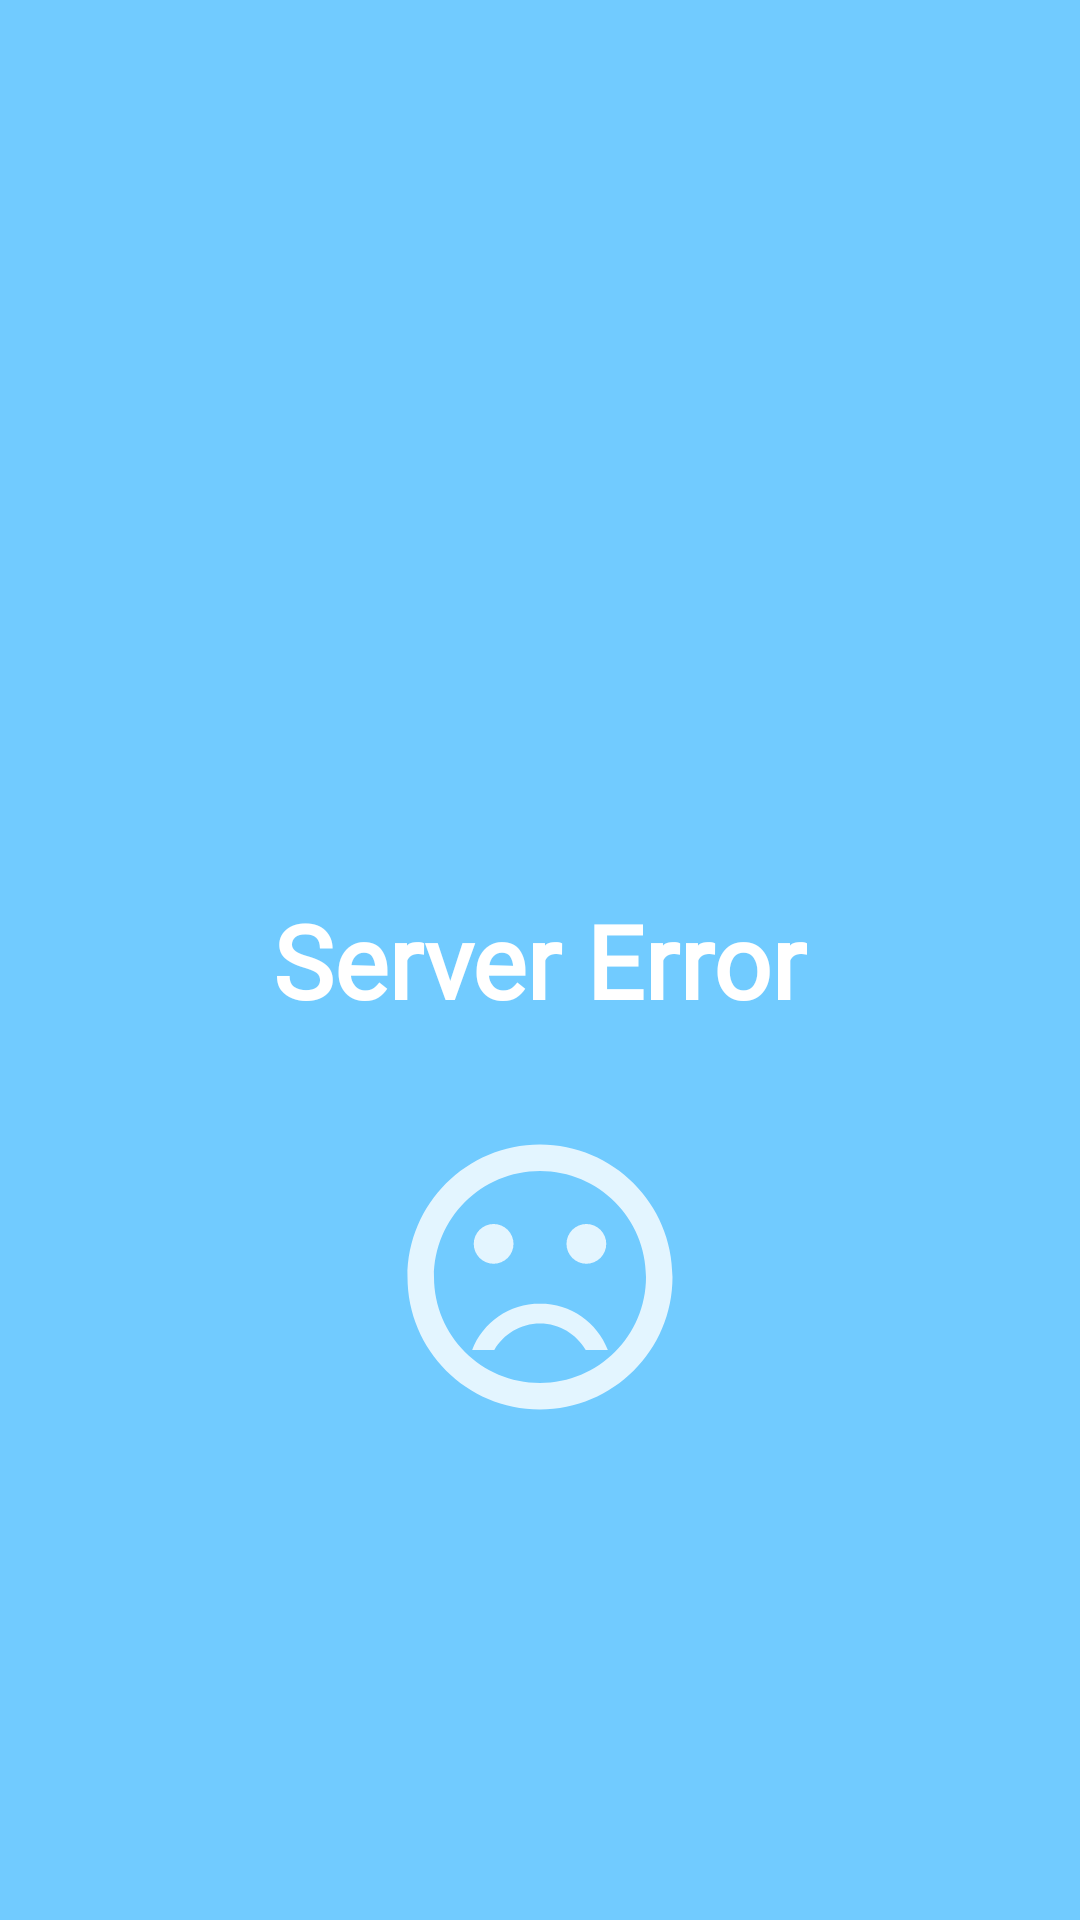

Icons on this 1080x1920 Android screen, each with the point to tap as (x,y):
sadface: (540,1277)
